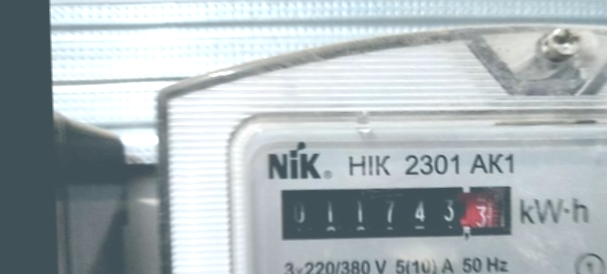0: (291, 196, 306, 224)
1: (352, 194, 365, 222), (323, 195, 334, 222)
3: (441, 194, 456, 222), (472, 202, 487, 228)
4: (411, 195, 426, 223)
7: (381, 193, 397, 221)
screen: (268, 170, 524, 252)
